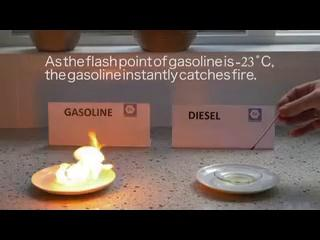Fire: (60, 113, 112, 186)
